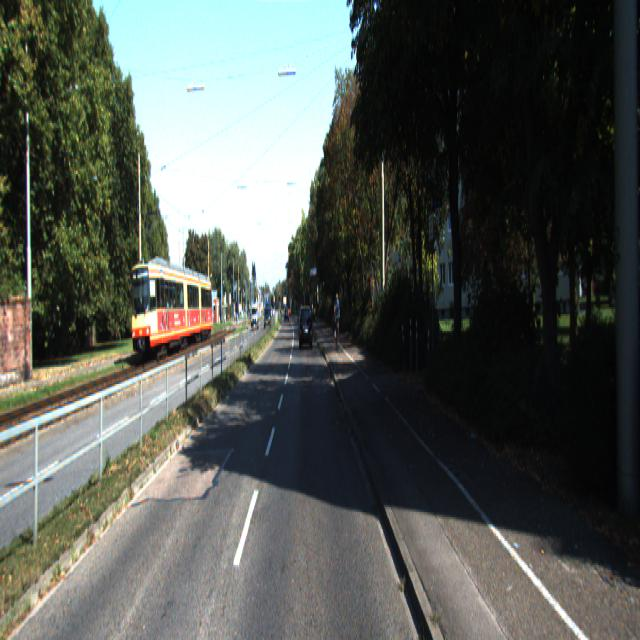Car: (131, 260, 213, 364), (300, 306, 314, 351)
